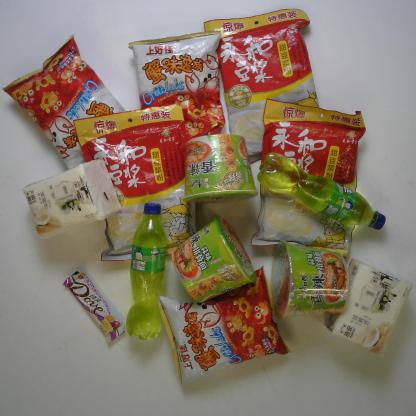Chocolate: (59, 262, 126, 344)
Drink: (256, 154, 386, 231), (127, 203, 164, 340)
Instant Drink: (71, 104, 197, 263), (204, 9, 329, 162), (250, 97, 368, 258)
Instant Noodles: (174, 214, 256, 303), (274, 241, 348, 319), (181, 133, 258, 204)
Puffed Food: (2, 33, 128, 173), (156, 267, 287, 385), (129, 30, 226, 141)
Tissue: (324, 261, 415, 353), (22, 163, 111, 243)
